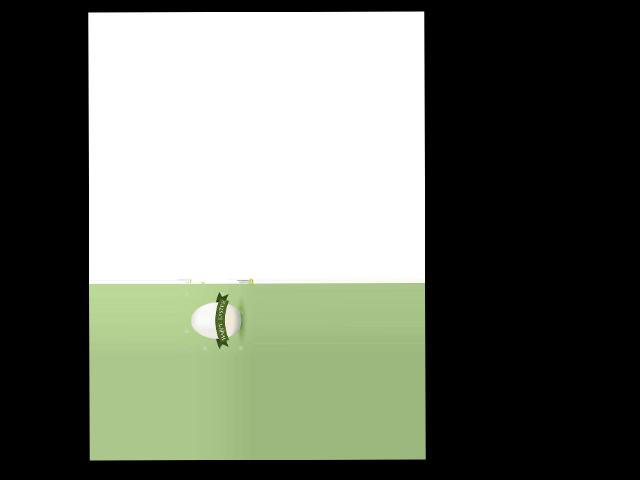egg: (191, 301, 241, 338)
